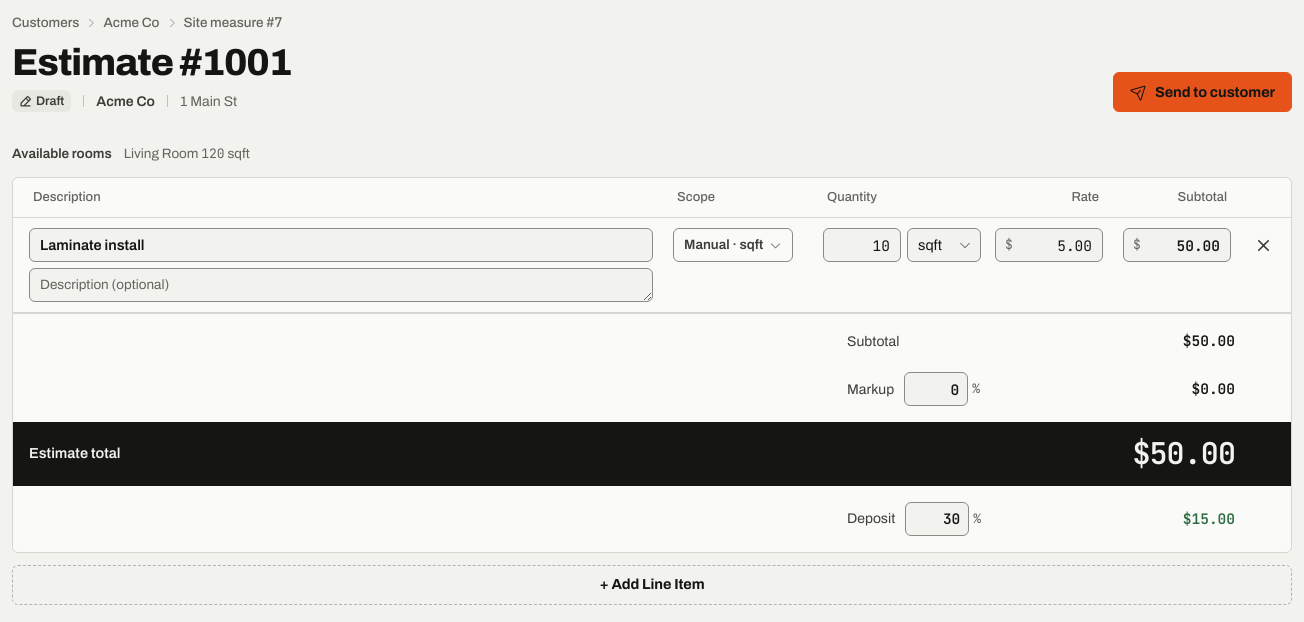
EstimateBuilderView — remove line item › removes the row from the view and persists the shrunken list
The image size is (1304, 622).
# The remove control is the row's "Remove line item" icon button.
Click the button named "Remove line item" at (1263, 245), box x1=1246 y1=228 x2=1280 y2=262
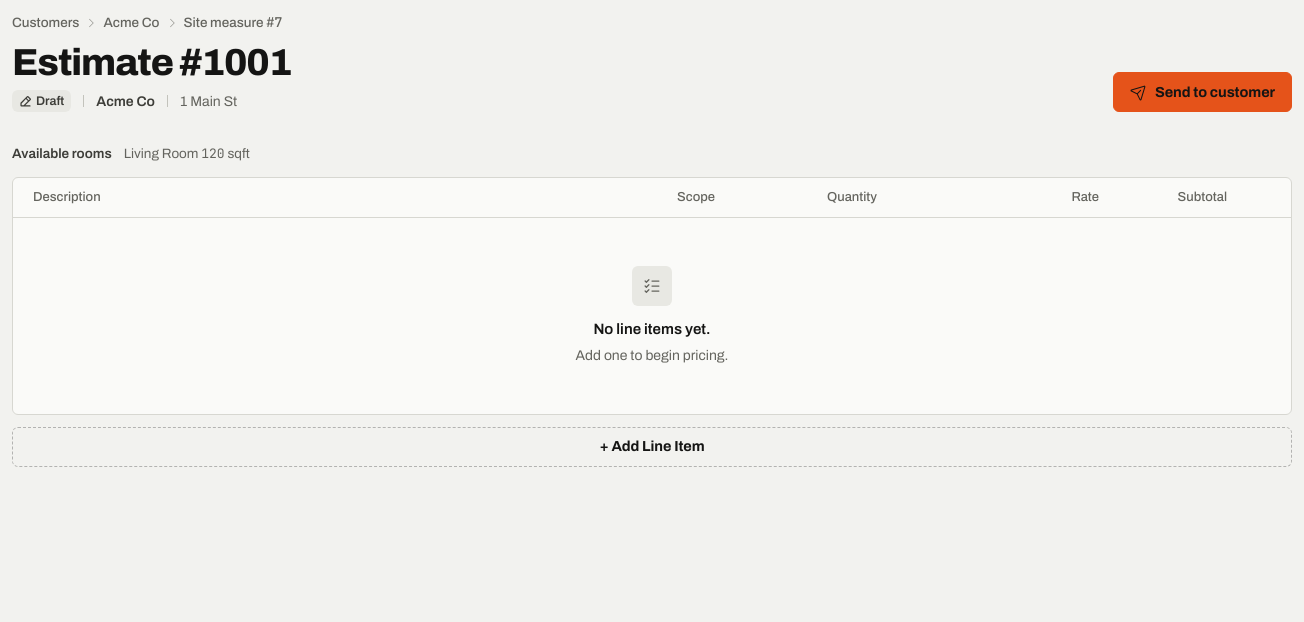
Expected: the field showing "Laminate install" is not shown
Expected: the text "No line items yet." is shown, x1=593 y1=321 x2=711 y2=337
